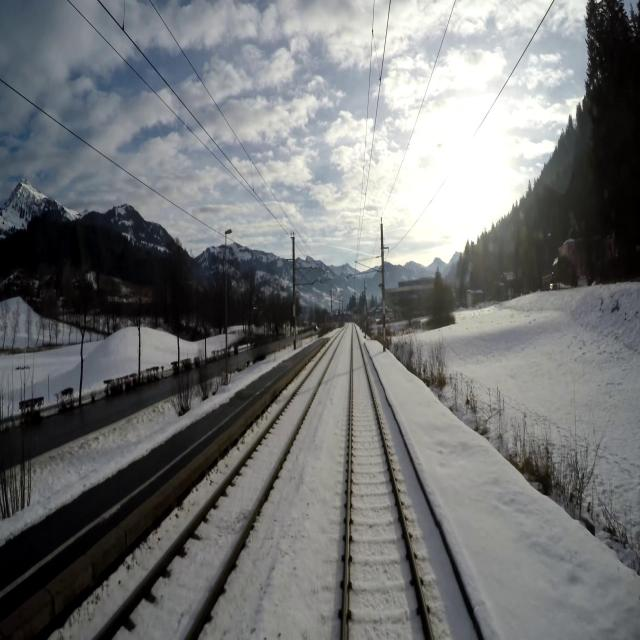rail-track: (100, 333, 341, 639), (348, 328, 428, 639)
